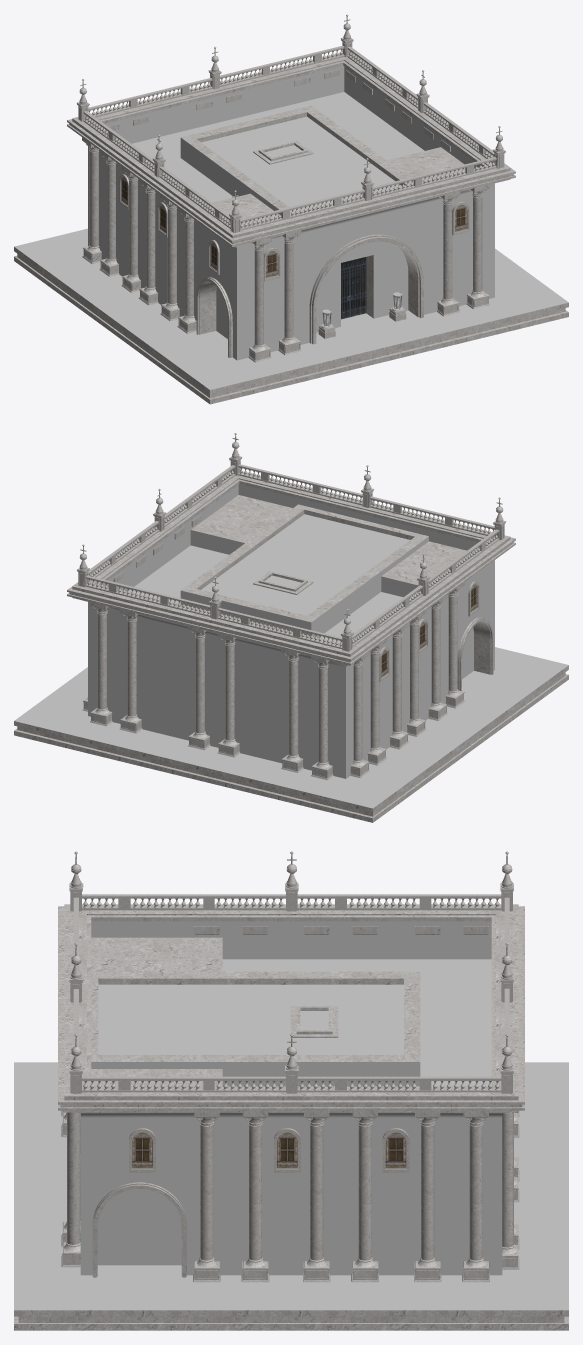
The model's file is objBuilding.obj.
3 renders of one model, top to bottom at view 1: azimuth 30°, elevation 25°; view 2: azimuth 150°, elevation 25°; view 3: azimuth 270°, elevation 25°, orthographic. The views are drawn at different scales.
Parts seen in each view (by area): view 1: Building pCube2476 structures, Floor Building, Building pillars column_column12 group2780, Building column_column12 pillars, Building pillars1 column_column13 group2790, Building pillars1 group2790 column_column14, Building pillars1 group2790 column_column15, Building fence group2787 fence26, Building fence group2787 fence31, Building group2786 fence fence31, Building group2786 fence fence26, Building fence group2789 fence26 (+5 smaller); view 2: Building pCube2476 structures, Floor Building, Building pillars column_column17, Building pillars column_column18, Building pillars column_column16, Building pillars1 group2790 column_column14, Building pillars1 column_column13 group2790, Building pillars1 group2790 column_column15, Building group2786 fence fence31, Building fence group2787 fence31, Building group2786 fence fence26, Building fence group2787 fence26 (+4 smaller); view 3: Building pCube2476 structures, Floor Building, Building group2791 pillars1 column_column15, Building column_column13 group2791 pillars1, Building group2791 pillars1 column_column14, Building fence group2789 fence26, Building fence group2788 fence26, Building fence fence31 group2788, Building fence fence31 group2789, Building pillars column_column12 group2780, Building pillars column_column17, Building wins pCylinder800 (+2 smaller).
Boxes of the visible parts, x1=… form: Building pCube2476 structures: x1=67, y1=53, x2=515, y2=360; Floor Building: x1=14, y1=228, x2=568, y2=404; Building pillars column_column12 group2780: x1=437, y1=184, x2=489, y2=316; Building column_column12 pillars: x1=248, y1=230, x2=301, y2=362; Building pillars1 column_column13 group2790: x1=82, y1=137, x2=119, y2=276; Building pillars1 group2790 column_column14: x1=160, y1=194, x2=196, y2=333; Building pillars1 group2790 column_column15: x1=121, y1=166, x2=158, y2=305; Building fence group2787 fence26: x1=240, y1=189, x2=364, y2=230; Building fence group2787 fence31: x1=372, y1=157, x2=496, y2=198; Building group2786 fence fence31: x1=220, y1=45, x2=344, y2=86; Building group2786 fence fence26: x1=88, y1=78, x2=212, y2=118; Building fence group2789 fence26: x1=83, y1=111, x2=154, y2=172; Building pCube2476 structures: x1=67, y1=471, x2=515, y2=778; Floor Building: x1=14, y1=647, x2=568, y2=822; Building pillars column_column17: x1=90, y1=601, x2=142, y2=733; Building pillars column_column18: x1=188, y1=625, x2=239, y2=757; Building pillars column_column16: x1=281, y1=648, x2=333, y2=780; Building pillars1 group2790 column_column14: x1=428, y1=581, x2=465, y2=720; Building pillars1 column_column13 group2790: x1=350, y1=639, x2=387, y2=778; Building pillars1 group2790 column_column15: x1=389, y1=610, x2=426, y2=749; Building group2786 fence fence31: x1=86, y1=575, x2=210, y2=616; Building fence group2787 fence31: x1=238, y1=464, x2=362, y2=505; Building group2786 fence fence26: x1=218, y1=608, x2=342, y2=648; Building fence group2787 fence26: x1=370, y1=496, x2=494, y2=537; Building pCube2476 structures: x1=58, y1=904, x2=524, y2=1277; Floor Building: x1=14, y1=1062, x2=568, y2=1330; Building group2791 pillars1 column_column15: x1=303, y1=1110, x2=378, y2=1282; Building column_column13 group2791 pillars1: x1=414, y1=1110, x2=489, y2=1282; Building group2791 pillars1 column_column14: x1=193, y1=1110, x2=269, y2=1282; Building fence group2789 fence26: x1=297, y1=894, x2=501, y2=910; Building fence group2788 fence26: x1=297, y1=1076, x2=501, y2=1092; Building fence fence31 group2788: x1=82, y1=1076, x2=285, y2=1092; Building fence fence31 group2789: x1=82, y1=894, x2=285, y2=910; Building pillars column_column12 group2780: x1=61, y1=1112, x2=80, y2=1267; Building pillars column_column17: x1=502, y1=1112, x2=519, y2=1269; Building wins pCylinder800: x1=382, y1=1128, x2=409, y2=1172.
Size of the model in its own units: 2.05 by 1.02 by 1.94.
